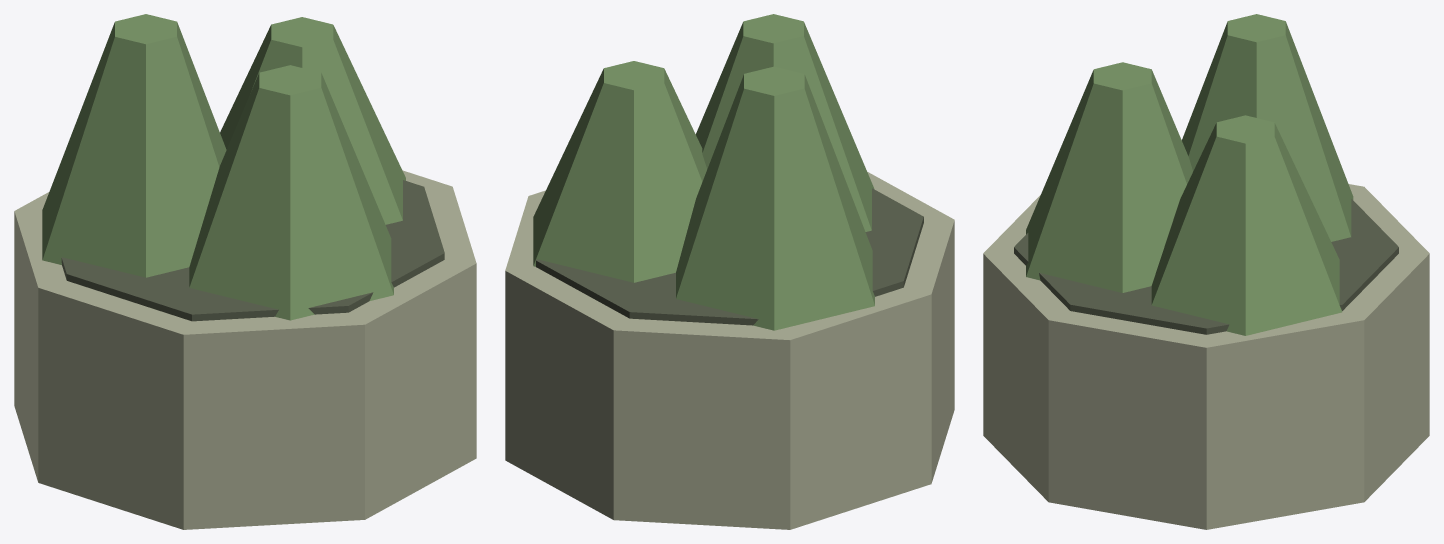
Rendered from street-planter.glb.
3 renders of one model, left to right at view 1: azimuth 30°, elevation 25°; view 2: azimuth 150°, elevation 25°; view 3: azimuth 270°, elevation 25°, orthographic. The views are drawn at different scales.
Visible parts, largest first — view 1: street-planter; view 2: street-planter; view 3: street-planter.
Part boxes in pixels (x1,y1,x2,y2): street-planter: [14, 14, 476, 529]; street-planter: [505, 14, 954, 529]; street-planter: [983, 14, 1429, 529].
Size of the model in its own units: 1.6 by 1.48 by 1.6.
